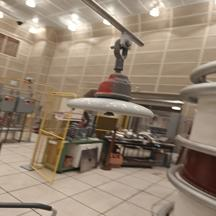insulator: (65, 67, 162, 127)
